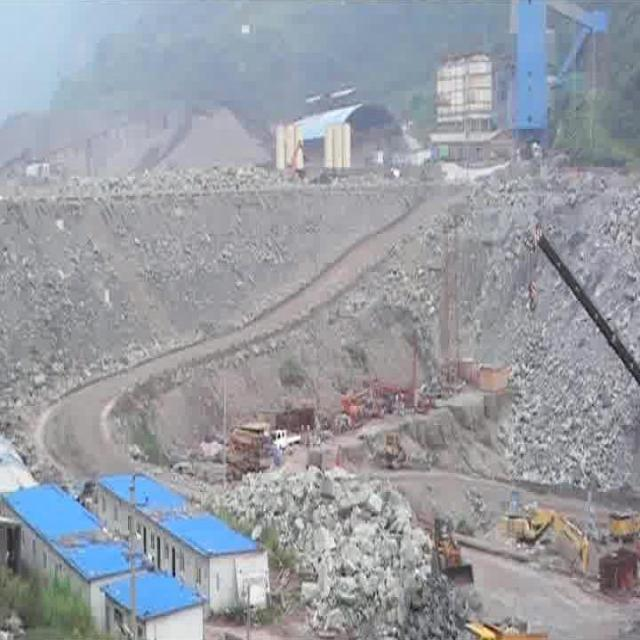crane: (528, 220, 640, 409)
excavator: (493, 500, 600, 584)
